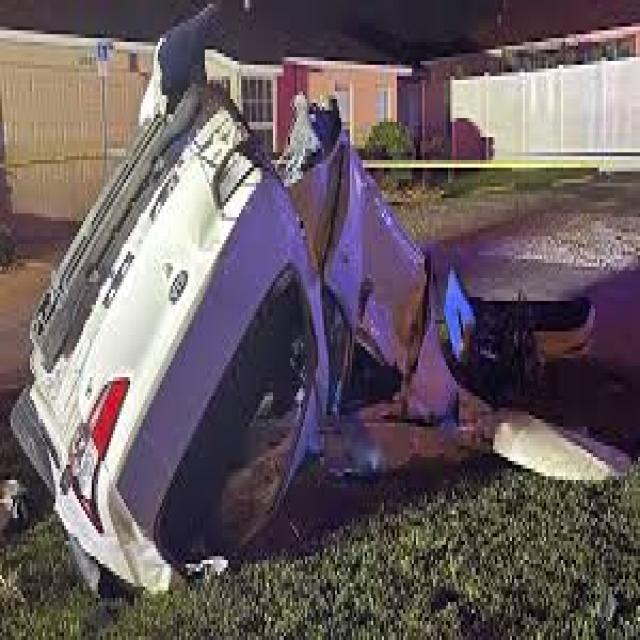accident: (10, 53, 400, 586)
